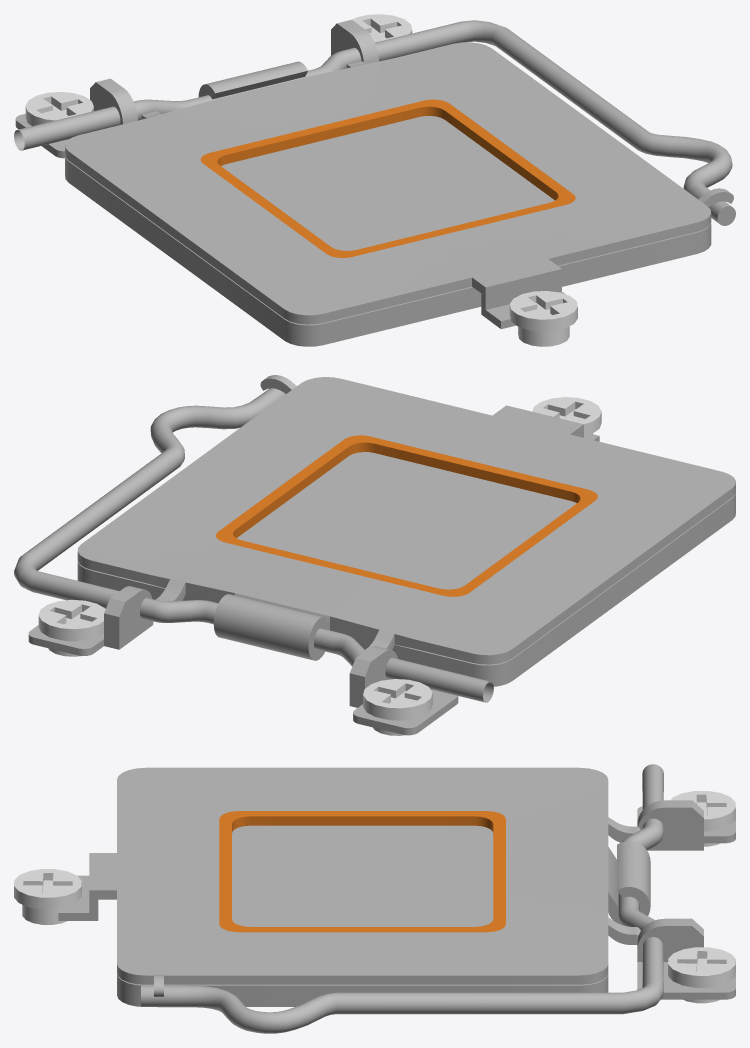
Rendered from Socet 0.01.fbx.
The picture shows the model from 3 angles, top to bottom: view 1: azimuth 30°, elevation 25°; view 2: azimuth 150°, elevation 25°; view 3: azimuth 270°, elevation 25°; orthographic projection.
Parts seen in each view (by area): view 1: Плоскость.008, Цилиндр.002, Цилиндр.004; view 2: Плоскость.008, Цилиндр.002, Цилиндр.004; view 3: Плоскость.008, Цилиндр.002, Цилиндр.004.
Part boxes in pixels (bbox=[...]): Плоскость.008: bbox=[65, 42, 733, 329]; Цилиндр.002: bbox=[15, 14, 711, 346]; Цилиндр.004: bbox=[14, 20, 735, 225]; Плоскость.008: bbox=[77, 375, 735, 664]; Цилиндр.002: bbox=[28, 397, 735, 735]; Цилиндр.004: bbox=[14, 388, 493, 702]; Плоскость.008: bbox=[58, 767, 650, 996]; Цилиндр.002: bbox=[14, 791, 735, 1006]; Цилиндр.004: bbox=[141, 764, 663, 1033].
Bounding box in the file's own units: 40.43 × 3.79 × 48.63.
